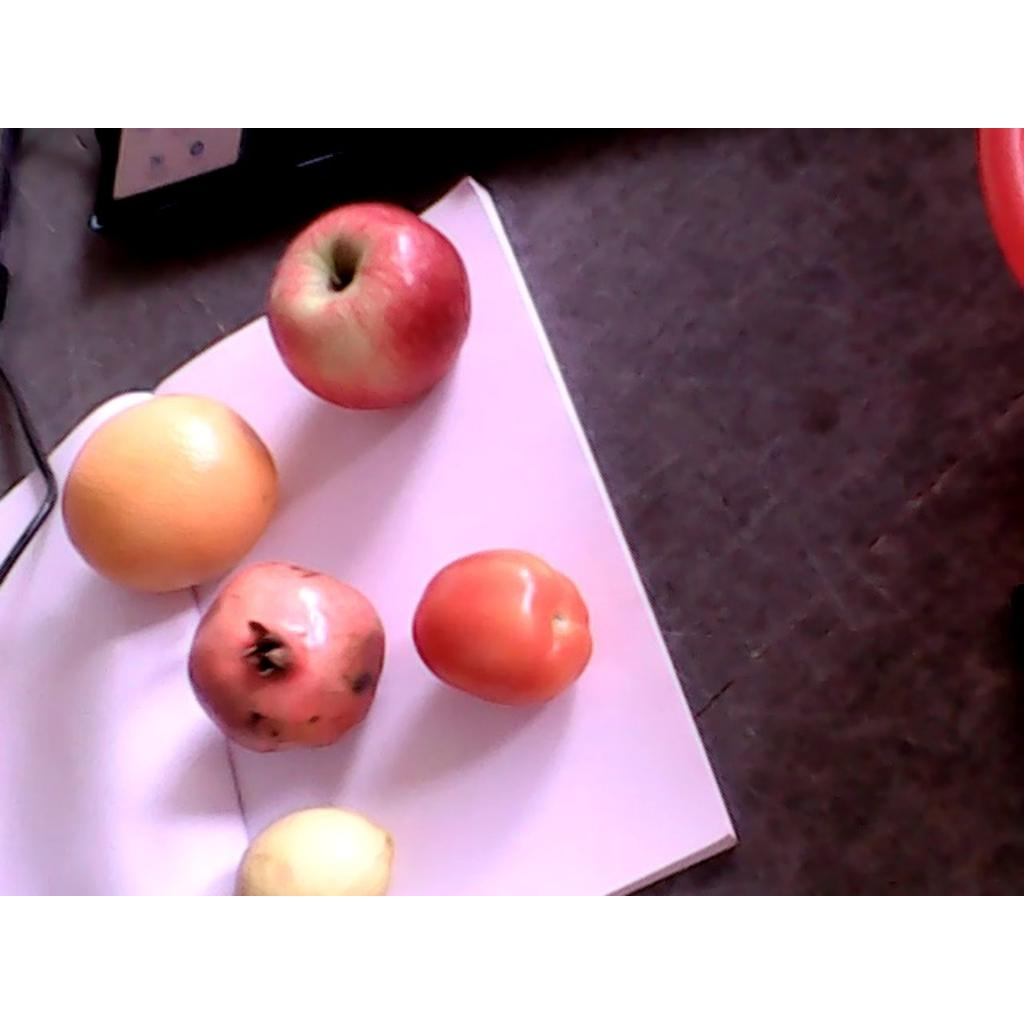apple: (269, 204, 472, 410)
lemon: (236, 809, 396, 894)
orange: (64, 398, 276, 593)
pomegranate: (189, 556, 386, 754)
tomato: (413, 549, 593, 707)
